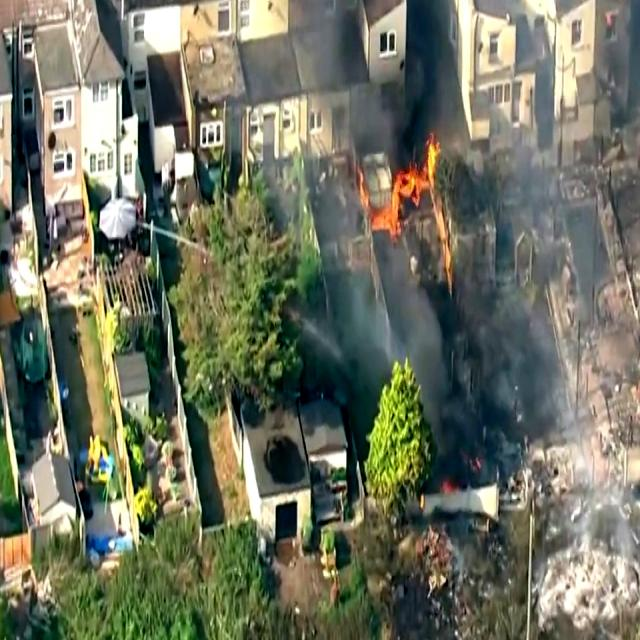fire: (339, 110, 457, 259)
